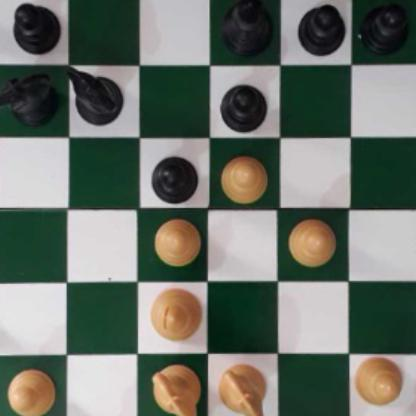black-bishop: (223, 0, 272, 56)
black-knight: (65, 65, 123, 122), (0, 68, 56, 125)
black-pawn: (148, 151, 198, 204), (217, 80, 268, 131), (296, 1, 342, 55), (361, 0, 409, 50), (12, 0, 56, 53)
white-bishop: (148, 282, 201, 337)
white-knight: (215, 363, 266, 416), (150, 366, 201, 416)
white-pawn: (3, 366, 55, 416), (352, 354, 401, 407), (217, 151, 268, 199), (151, 214, 199, 265), (285, 217, 334, 265)
